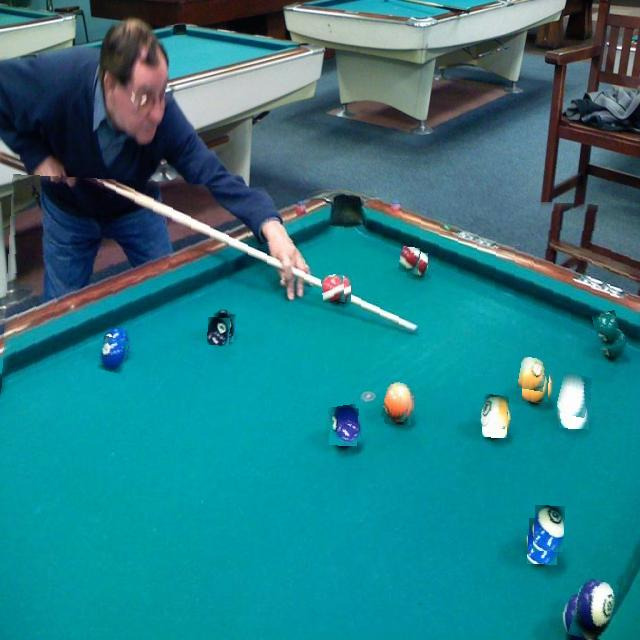Ball: (571, 578, 615, 640), (557, 372, 592, 417), (534, 506, 565, 552), (329, 405, 360, 445), (384, 381, 414, 422), (98, 337, 128, 373), (594, 311, 622, 349), (519, 357, 547, 391), (481, 394, 508, 429), (321, 274, 345, 303), (208, 318, 230, 346), (399, 247, 420, 274)
Billiard table: (0, 182, 640, 640)
